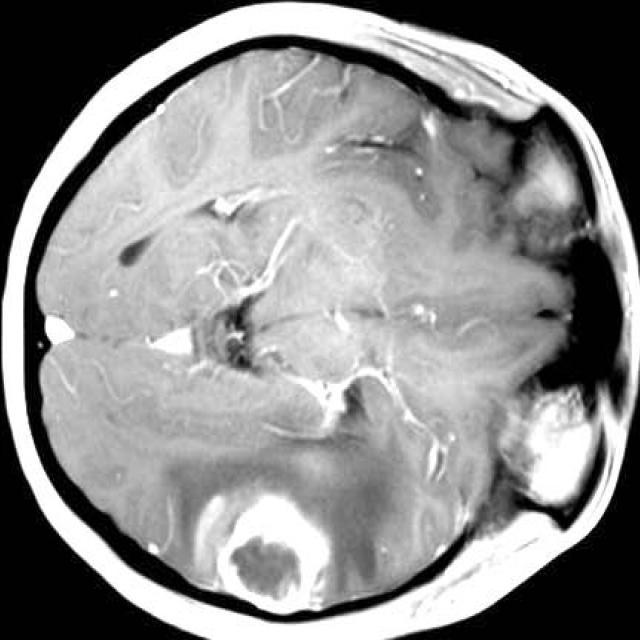tumor: (211, 493, 328, 614)
